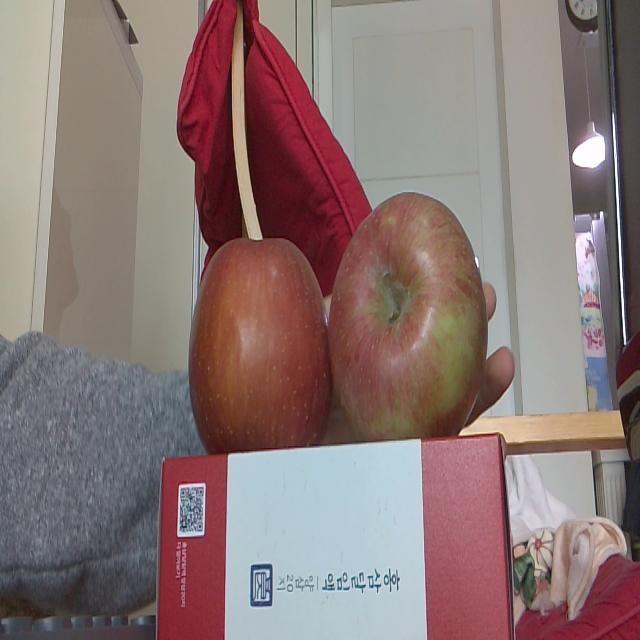apple: (329, 193, 480, 449), (186, 234, 330, 450)
